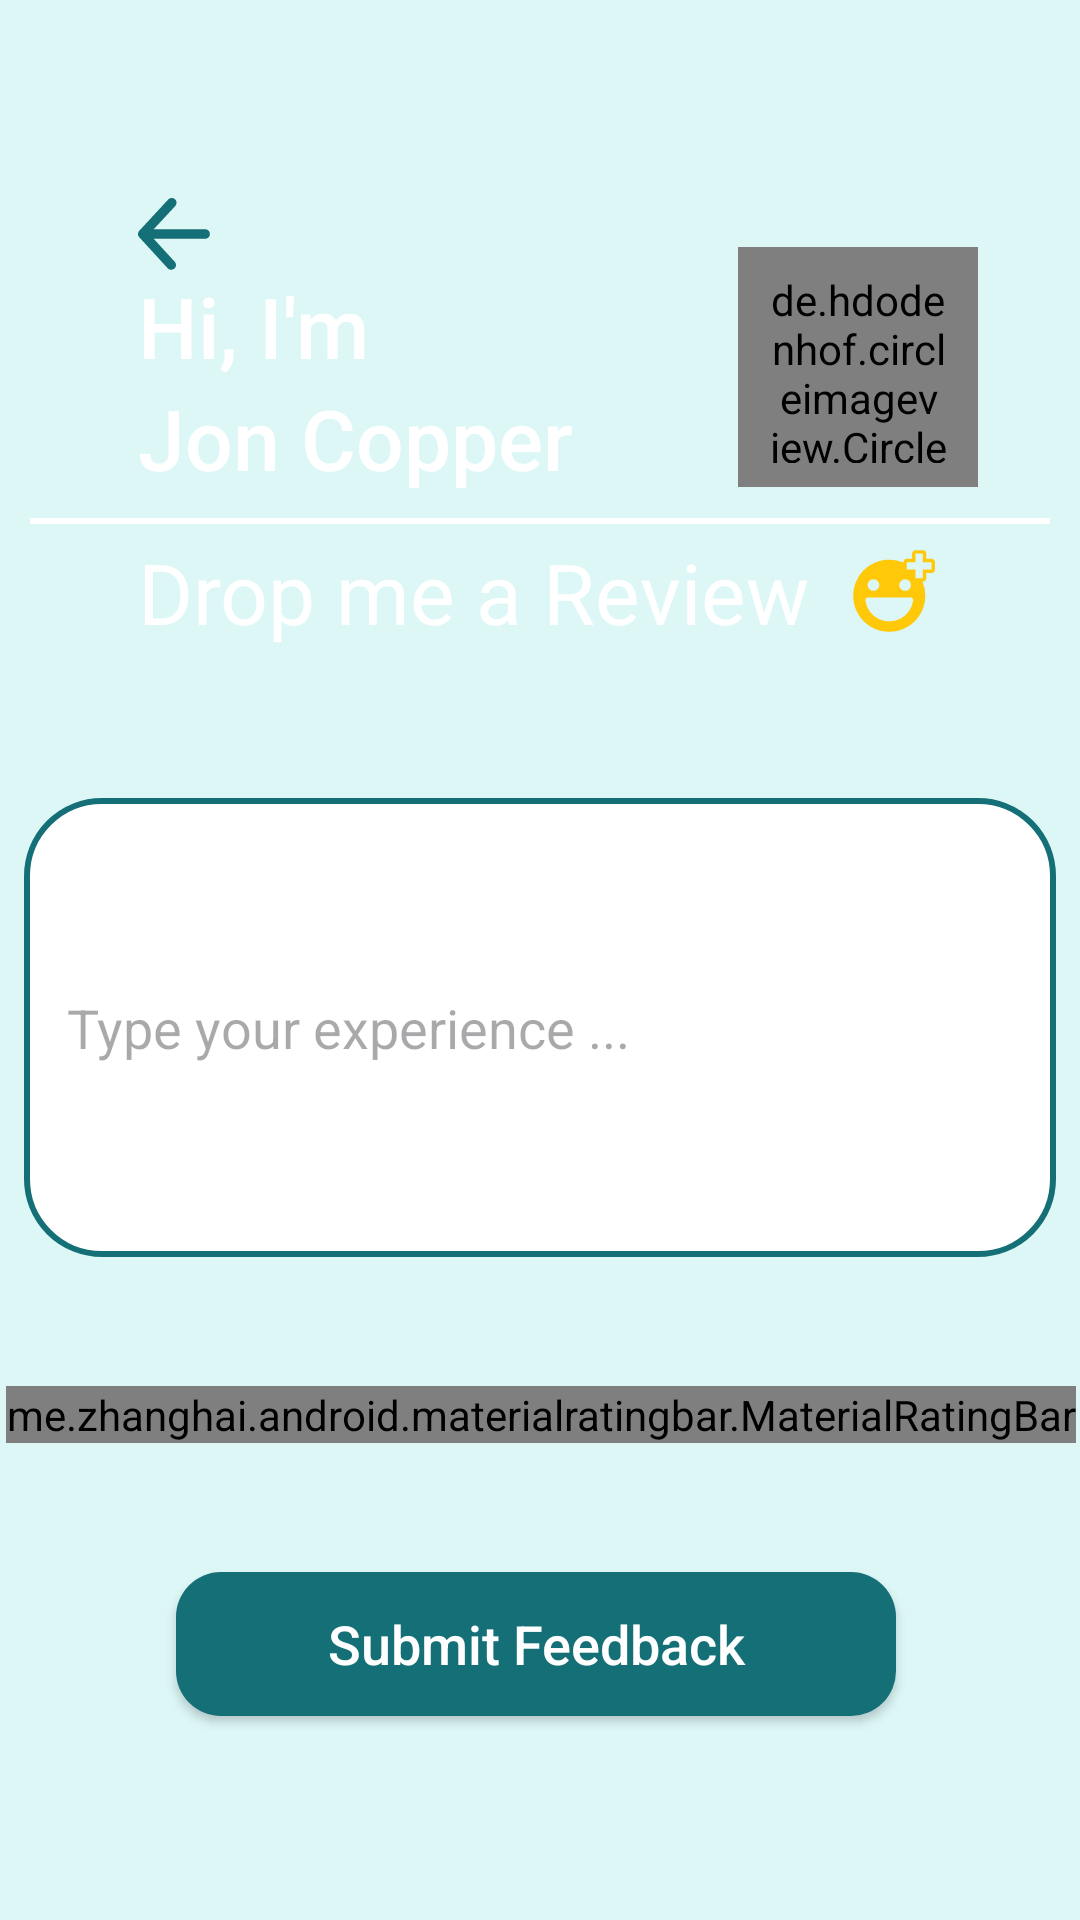

Screen size 1080w x 1920h. Icon name, then its center in pixels as point (x, y):
back: point (174, 234)
